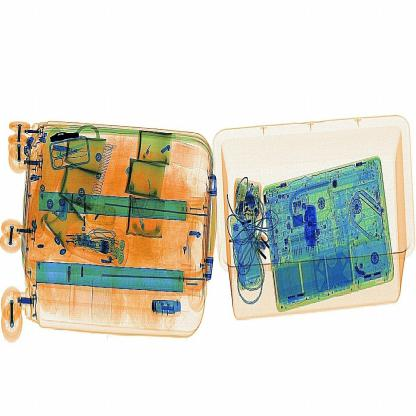scissors: (296, 201, 324, 263)
